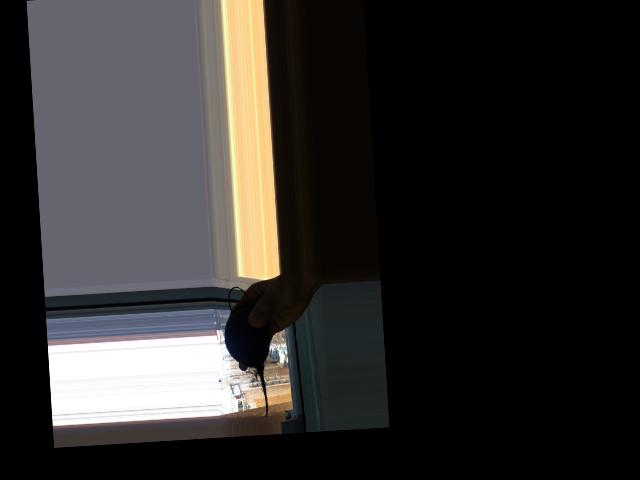beet: (221, 285, 274, 419)
